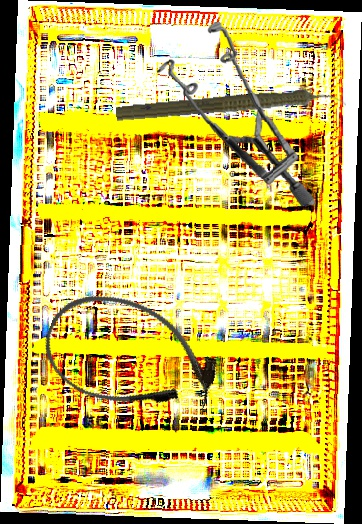Cannula: (32, 277, 230, 435)
Handpiece: (115, 83, 347, 130)
Speculum: (153, 15, 318, 216)
